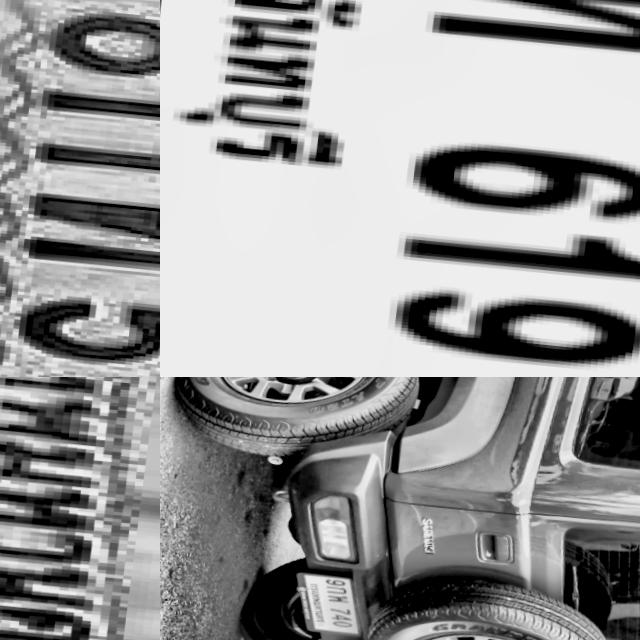license-plate: (160, 0, 640, 377), (0, 0, 160, 377), (0, 377, 160, 640), (286, 563, 374, 638)
